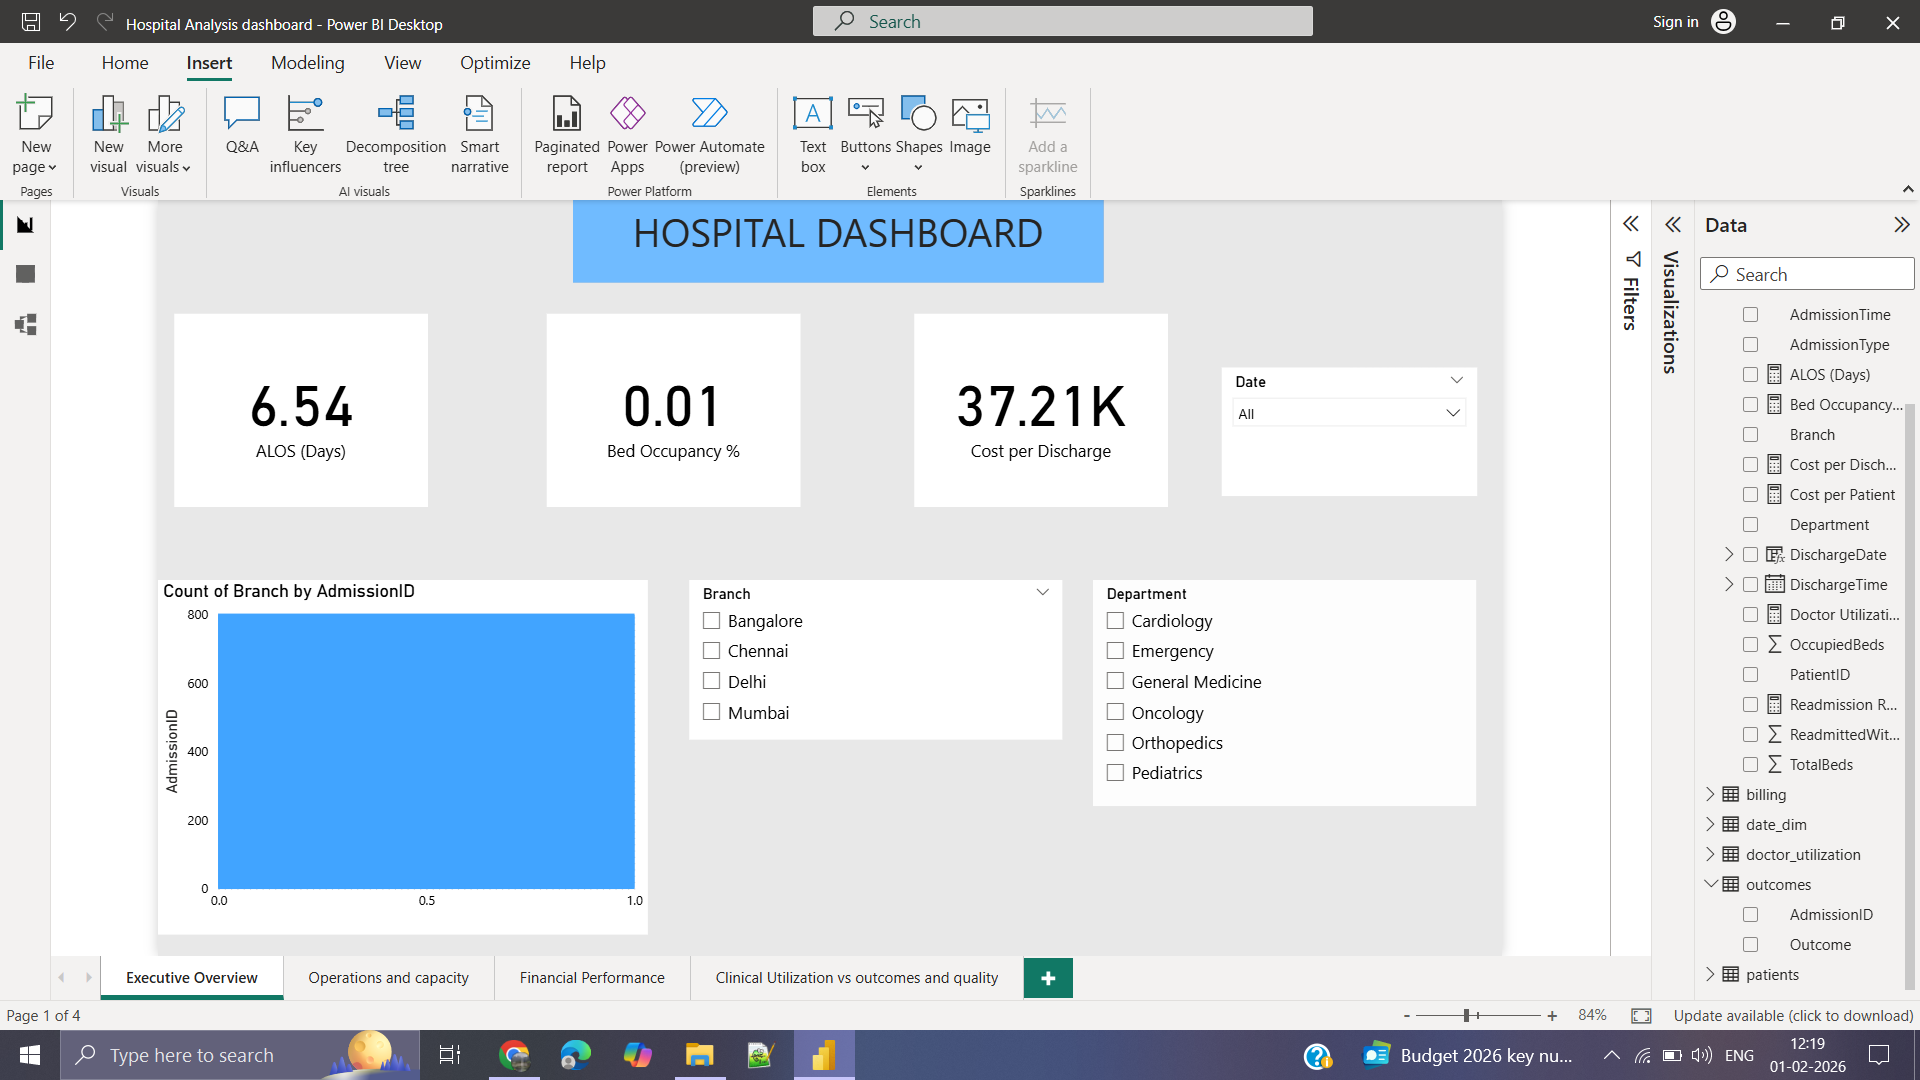

What the dashboard file says about the page in this screenshot:
{"tool":"powerbi","page":{"name":"Executive Overview","canvas":[1280,720],"ordinal":0},"visuals":[{"type":"card","fields":{"Values":["admissions.ALOS (Days)"]},"box":[15.1,108.4,241.5,183.9],"z":0},{"type":"card","fields":{"Values":["admissions.Bed Occupancy %"]},"box":[370.5,108.4,241.5,183.9],"z":1000},{"type":"card","fields":{"Values":["admissions.Cost per Discharge"]},"box":[720.4,108.4,241.5,183.9],"z":2000},{"type":"clusteredBarChart","fields":{"Category":["admissions.AdmissionID"],"Y":["CountNonNull(admissions.Branch)"]},"box":[0,362.3,466.6,337.6],"z":3000},{"type":"slicer","fields":{"Values":["date_dim.Date"]},"box":[1012.7,159.2,242.9,122.1],"z":4000},{"type":"slicer","fields":{"Values":["admissions.Branch"]},"box":[506.3,362.3,355.4,152.3],"z":5000},{"type":"slicer","fields":{"Values":["admissions.Department"]},"box":[890.6,362.3,365,215.4],"z":6000},{"type":"shape","box":[395.2,0,505,78.2],"z":6001},{"type":"textbox","box":[395.2,0,505,78.2],"z":6002}]}

Visuals, with their boxes on the page's 1280x720 design canvas (x1, y1, x2, y2). These are canvas units, not pixel positions in the 1920x1080 screenshot, which may show the page scaled, cropped or inside an application window:
card - admissions.ALOS (Days): [15, 108, 257, 292]
card - admissions.Bed Occupancy %: [370, 108, 612, 292]
card - admissions.Cost per Discharge: [720, 108, 962, 292]
clusteredBarChart - admissions.AdmissionID x CountNonNull(admissions.Branch): [0, 362, 467, 700]
slicer - date_dim.Date: [1013, 159, 1256, 281]
slicer - admissions.Branch: [506, 362, 862, 515]
slicer - admissions.Department: [891, 362, 1256, 578]
shape: [395, 0, 900, 78]
textbox: [395, 0, 900, 78]
